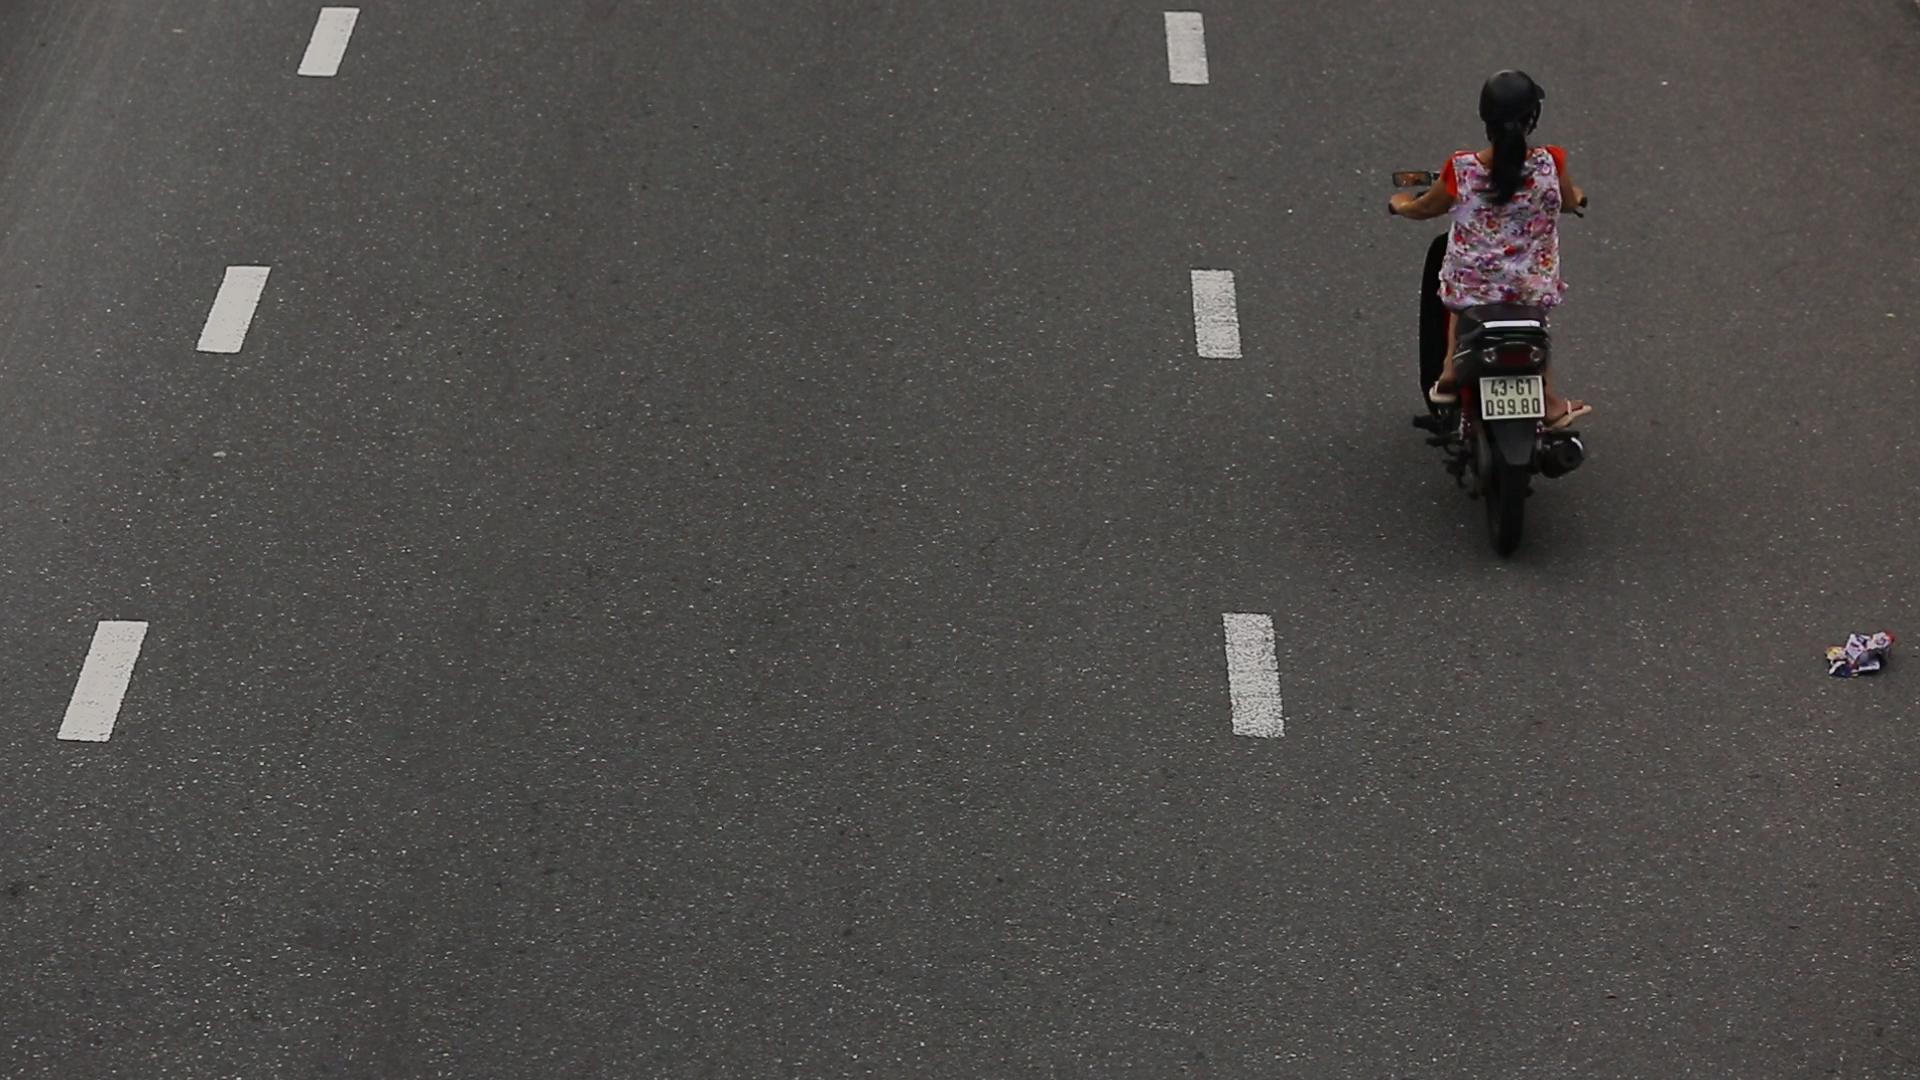motobike: (1387, 55, 1604, 555)
